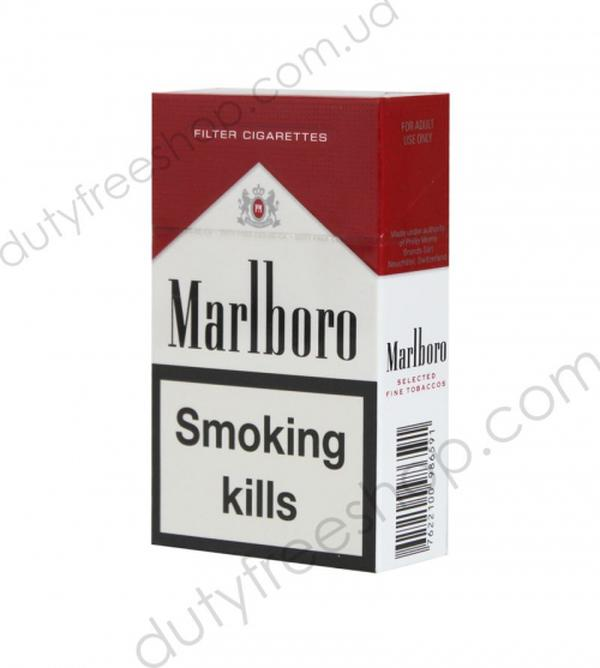marlboro_red: (154, 95, 385, 543)
